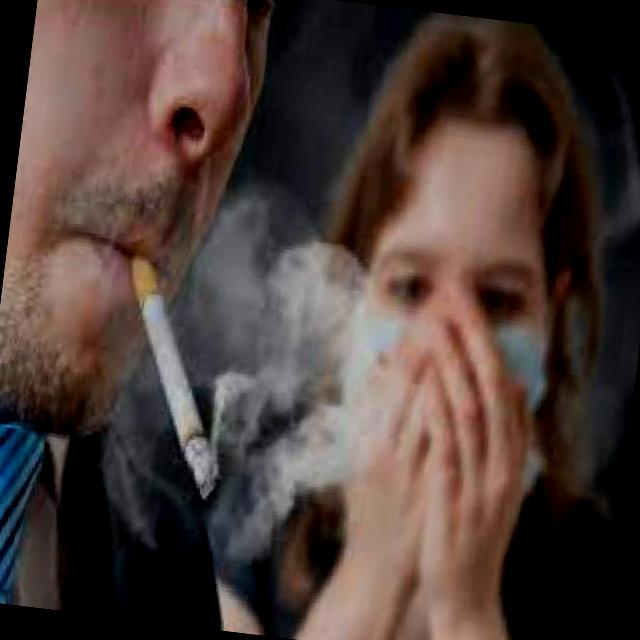cigarette: (98, 230, 252, 508)
